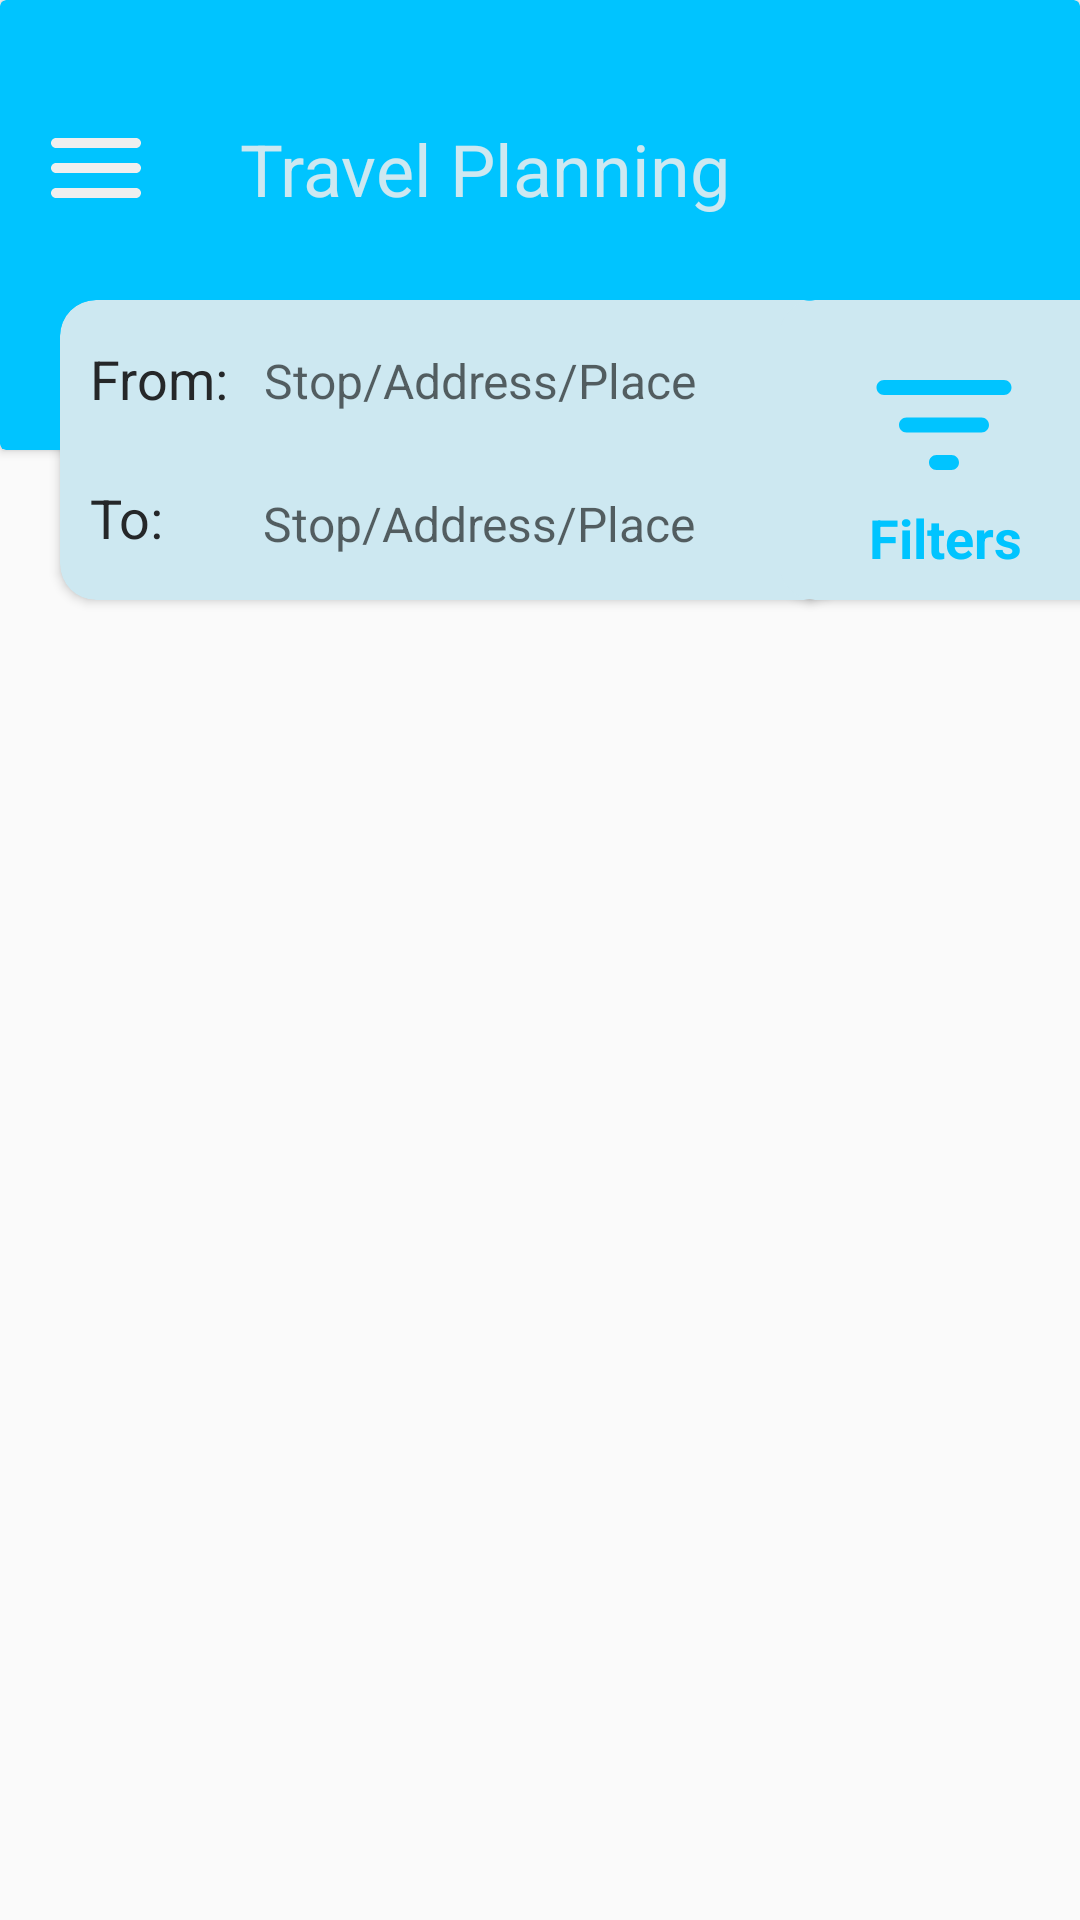

Icons on this 1080w x 1920h Android screen, each with the point to tap as point (x, y):
menu: point (96, 168)
